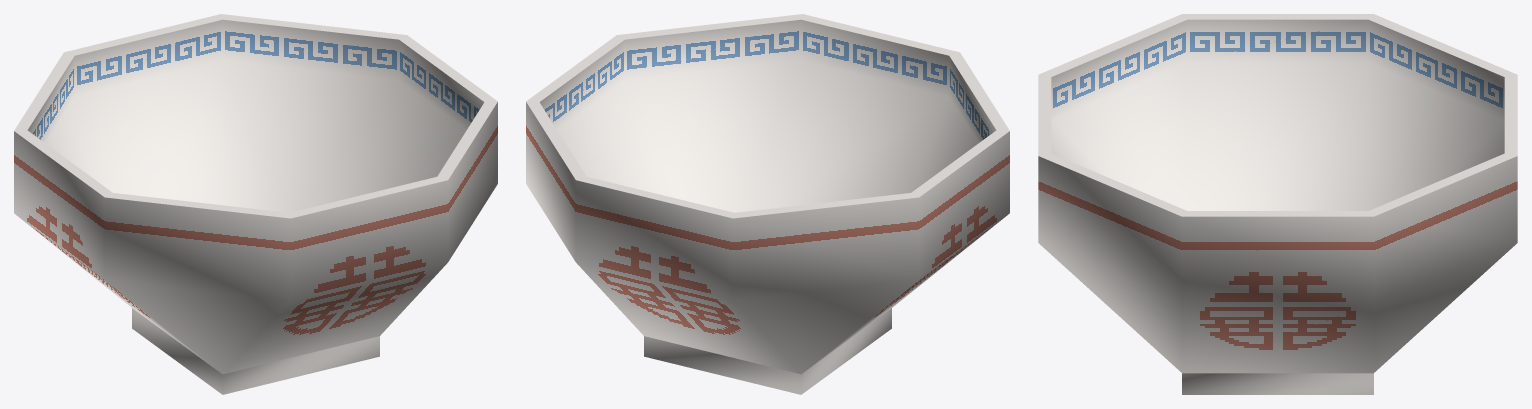
The model's file is 0107_Chinese_Bowl.glb.
The picture shows the model from 3 angles, left to right: view 1: azimuth 30°, elevation 25°; view 2: azimuth 150°, elevation 25°; view 3: azimuth 270°, elevation 25°; orthographic projection. The views are drawn at different scales.
Parts seen in each view (by area): view 1: part_0; view 2: part_0; view 3: part_0.
Boxes of the visible parts, box(x1,y1,x2,y2) form: part_0: box(14, 14, 497, 394); part_0: box(526, 14, 1009, 394); part_0: box(1038, 14, 1517, 394).
Size of the model in its own units: 0.235 by 0.1292 by 0.235.
Materials: 1 (1 with a texture image).
